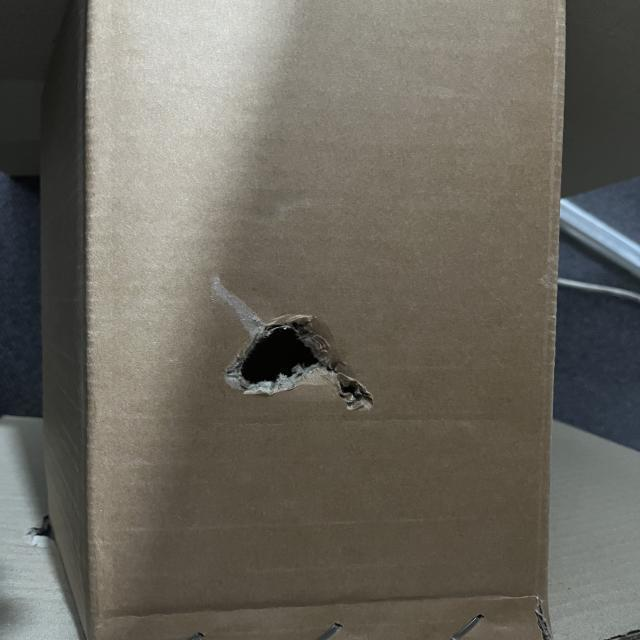hole: (229, 314, 379, 418)
